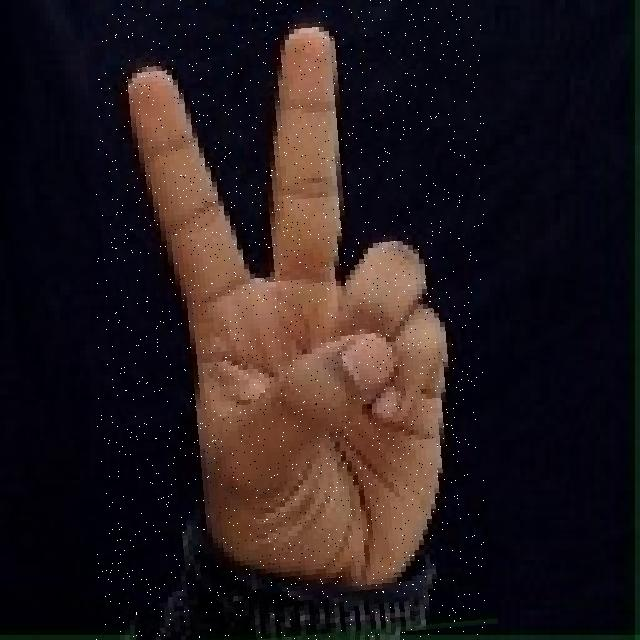No: (96, 0, 485, 640)
